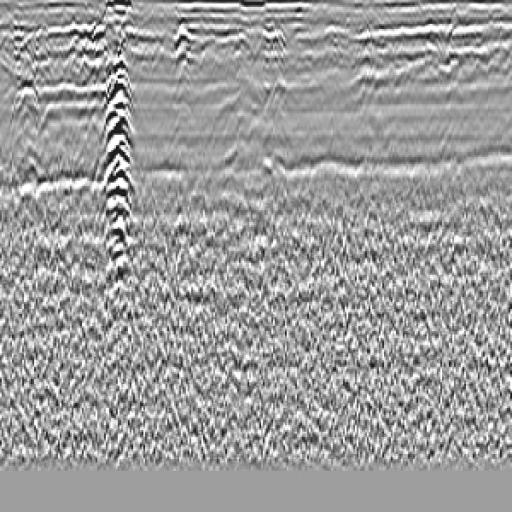metalic: (71, 33, 165, 310)
nonmetalic: (9, 71, 51, 212)
